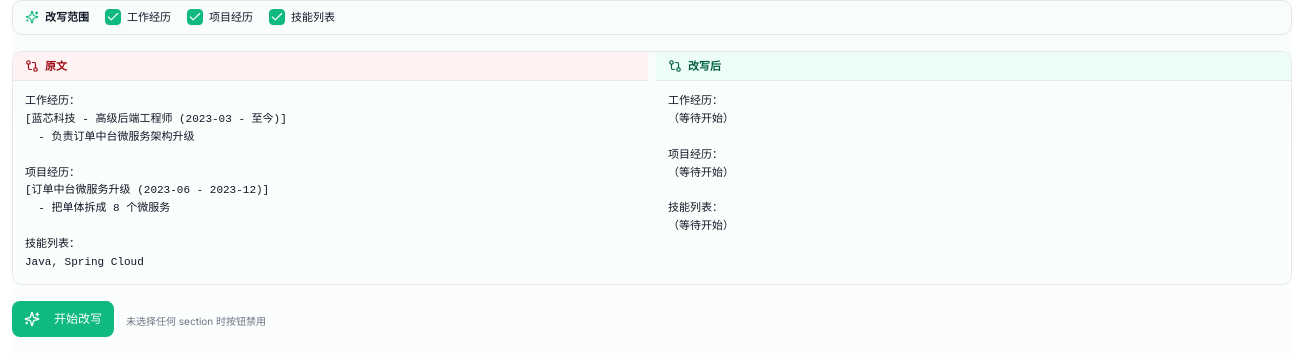
StarRewritePanel › disables start button when no sections are selected
Click the checkbox named "选择 工作经历": [113, 17] box [105,9,121,25]
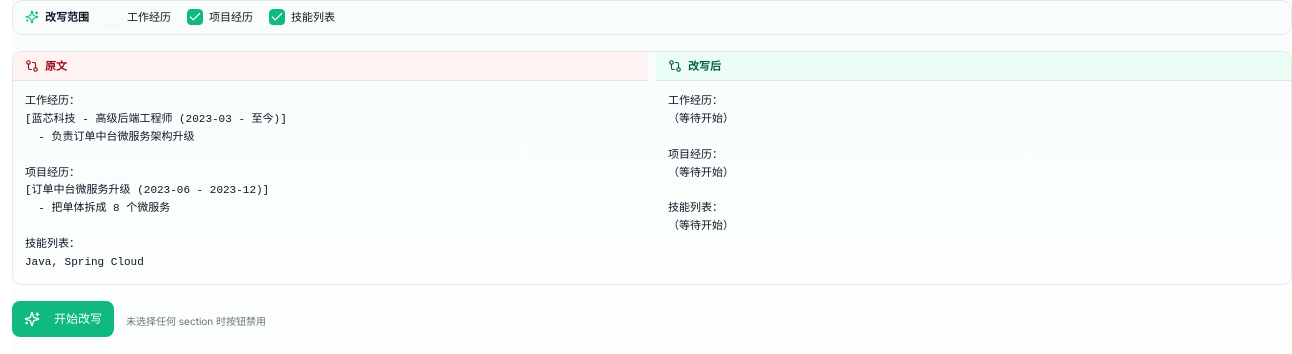
Click the checkbox named "选择 项目经历": [195, 17] box [187,9,203,25]
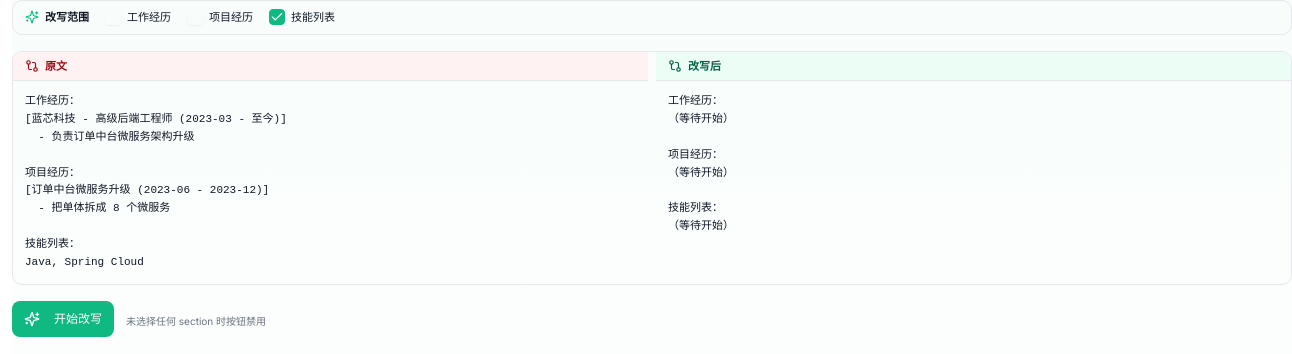
Click the checkbox named "选择 技能列表": [277, 17] box [269,9,285,25]
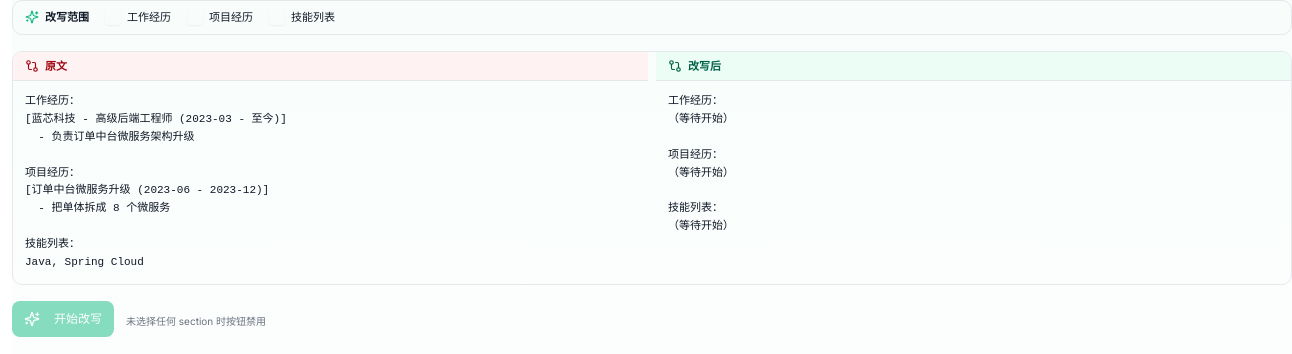
Expected: the button "开始改写" is disabled, [12,301,114,337]
